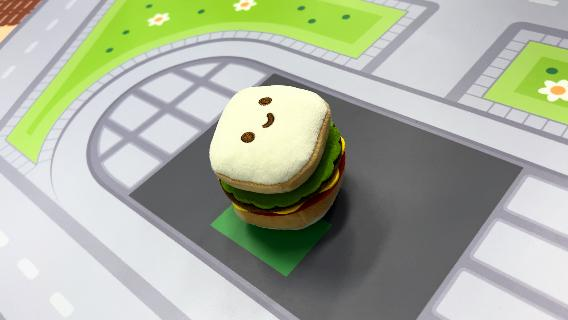sandwich: (208, 82, 348, 232)
